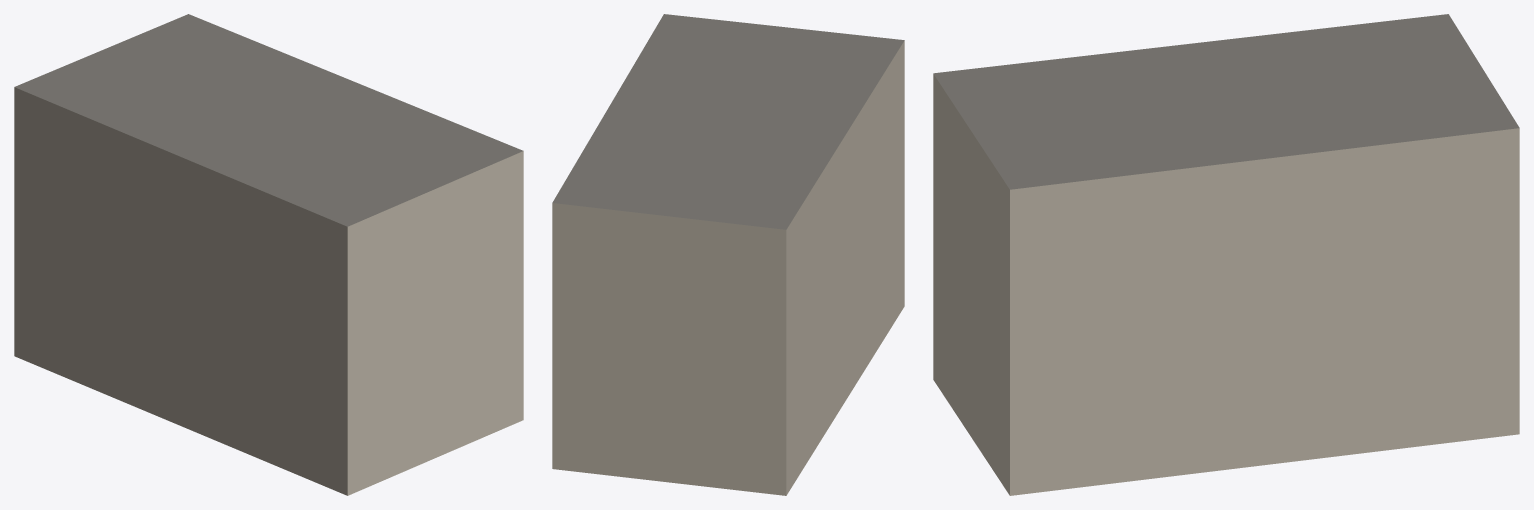
3 views of the same model, side by side, from view 1: azimuth 30°, elevation 25°; view 2: azimuth 150°, elevation 25°; view 3: azimuth 270°, elevation 25° (orthographic). The views are drawn at different scales.
Visible parts, largest first — view 1: HP-w505633425; view 2: HP-w505633425; view 3: HP-w505633425.
Part boxes in pixels (<box>): HP-w505633425: <box>14,14,523,495</box>; HP-w505633425: <box>552,14,904,495</box>; HP-w505633425: <box>933,14,1519,495</box>.
Bounding box in the file's own units: 22.16 × 18 × 31.26.
